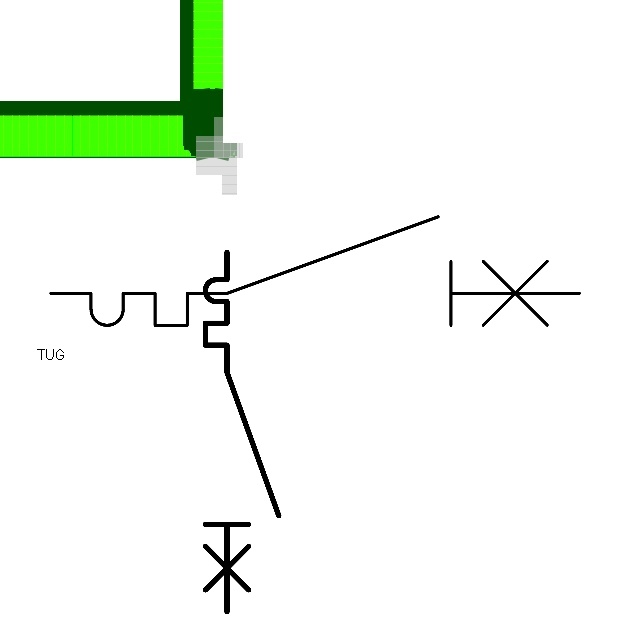interruptor_termomagnetico: (37, 203, 593, 339), (196, 243, 288, 621)
